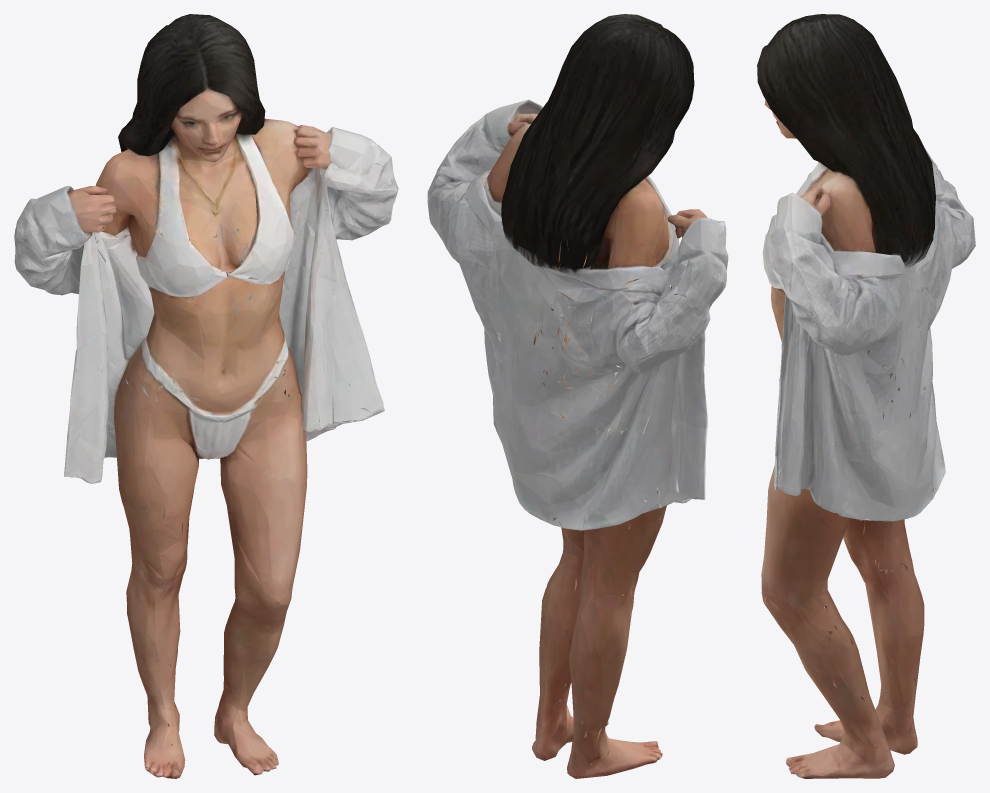
Rendered from gente_bikini_swimsuit_v4.glb.
3 views of the same model, side by side, from view 1: azimuth 30°, elevation 25°; view 2: azimuth 150°, elevation 25°; view 3: azimuth 270°, elevation 25° (orthographic). The views are drawn at different scales.
Parts seen in each view (by area): view 1: Mesh_0_modddif_material_0_0 (×2); view 2: Mesh_0_modddif_material_0_0 (×2); view 3: Mesh_0_modddif_material_0_0 (×2).
Part boxes in pixels (<box>): Mesh_0_modddif_material_0_0 (×2): <box>14,14,398,778</box>; Mesh_0_modddif_material_0_0 (×2): <box>427,14,728,778</box>; Mesh_0_modddif_material_0_0 (×2): <box>757,14,975,778</box>.
Bounding box in the file's own units: 0.7868 × 1.68 × 0.4552.
1 material, 1 textured.
